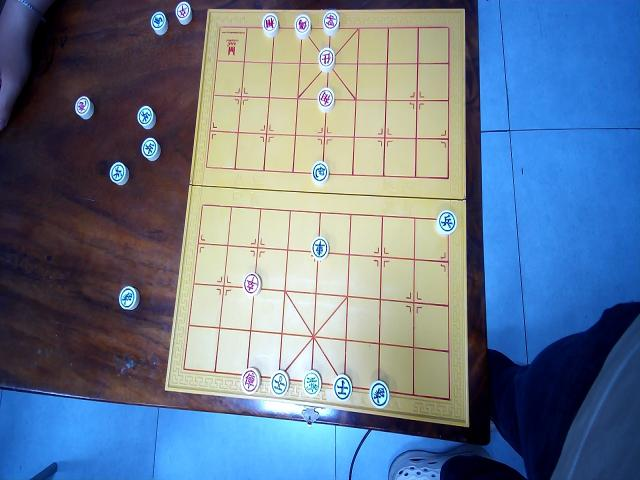piece: (369, 379, 390, 408), (436, 208, 458, 235), (333, 372, 353, 400), (270, 369, 290, 397), (240, 367, 260, 393), (118, 286, 138, 312), (303, 369, 321, 397), (74, 95, 94, 120), (109, 161, 129, 185), (141, 137, 161, 161), (174, 0, 193, 25), (318, 46, 336, 72), (322, 10, 340, 36), (262, 12, 280, 38), (294, 13, 312, 39), (150, 10, 168, 36), (316, 86, 334, 111), (136, 103, 154, 128), (243, 272, 261, 296), (312, 159, 328, 185), (311, 236, 328, 260)
